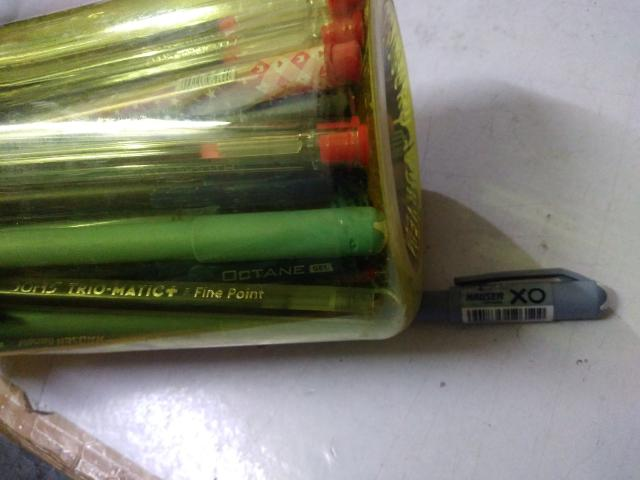PEN: (0, 208, 396, 268), (418, 262, 605, 346)
